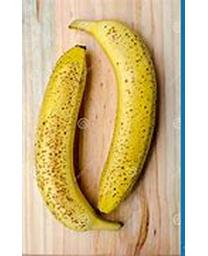banana: (36, 18, 162, 232)
